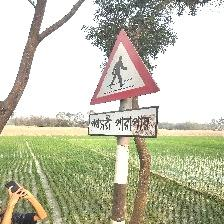Pedestrian-crossing: (87, 28, 161, 139)
